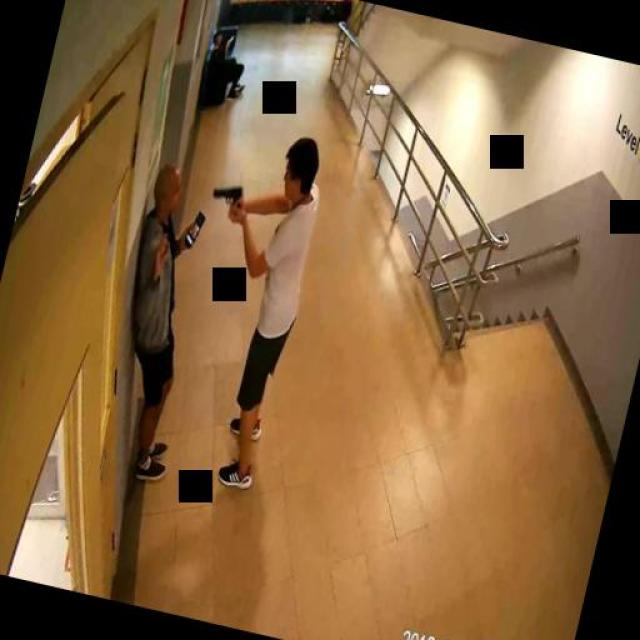gun: (206, 178, 245, 218)
